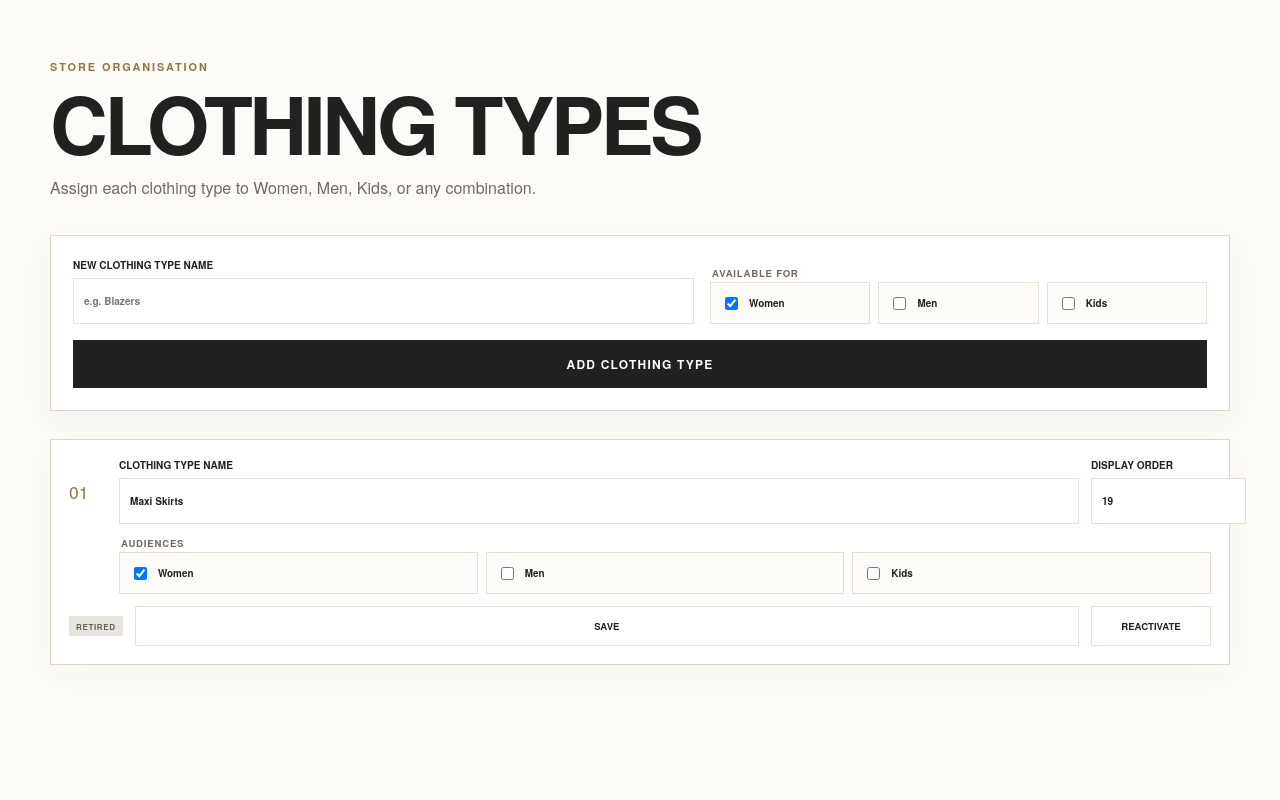
Test: reactivates a retired clothing type without changing its details
What coordinates should you click on to do the following:
click the button with aria-label "reactivate maxi skirts"
I would click on:
 (1151, 626)
Its box is [1091, 606, 1211, 646].
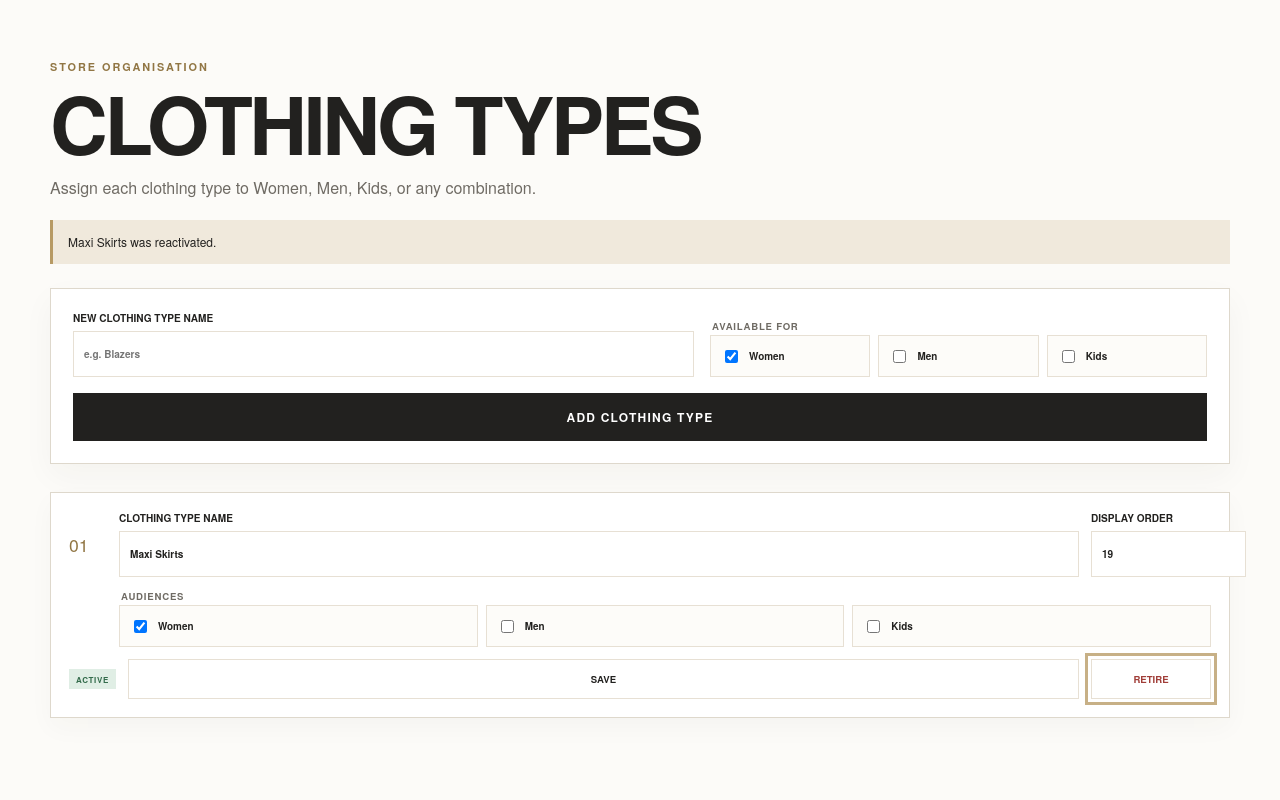
Check: the text "Maxi Skirts was reactivated." is shown, box [50, 220, 1230, 264]
Check: the button with aria-label "retire maxi skirts" is shown, box [1091, 659, 1211, 699]
